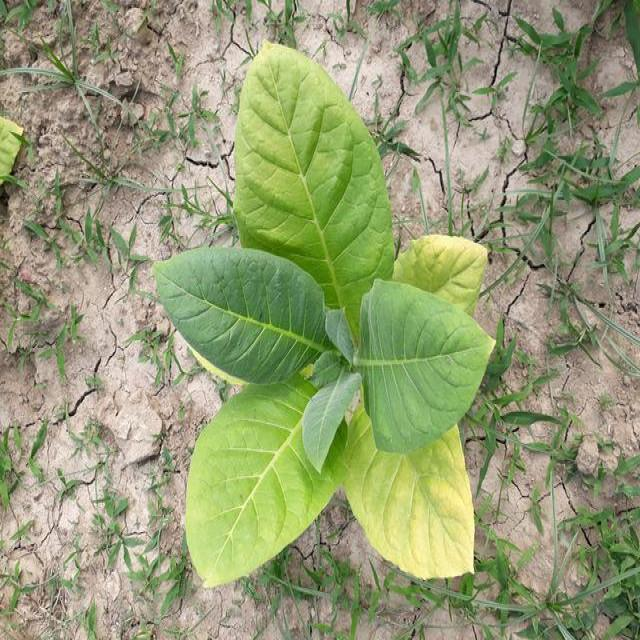crop: (154, 36, 496, 591)
